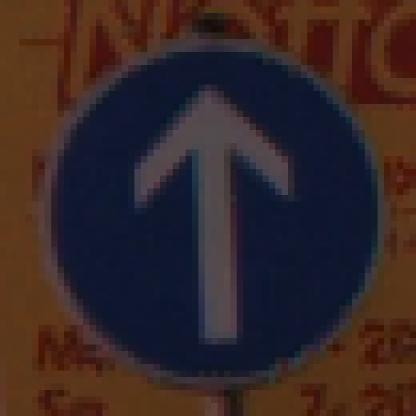AheadOnly: (39, 34, 385, 385)
